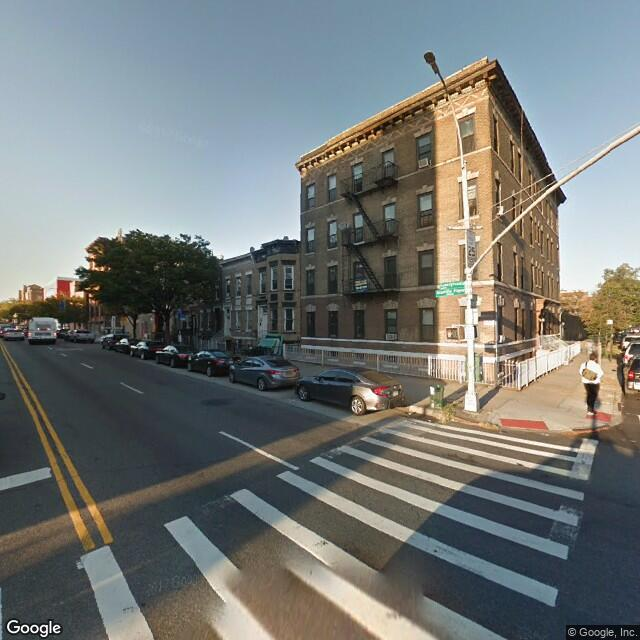litter: (407, 410, 411, 416), (428, 416, 431, 423)
